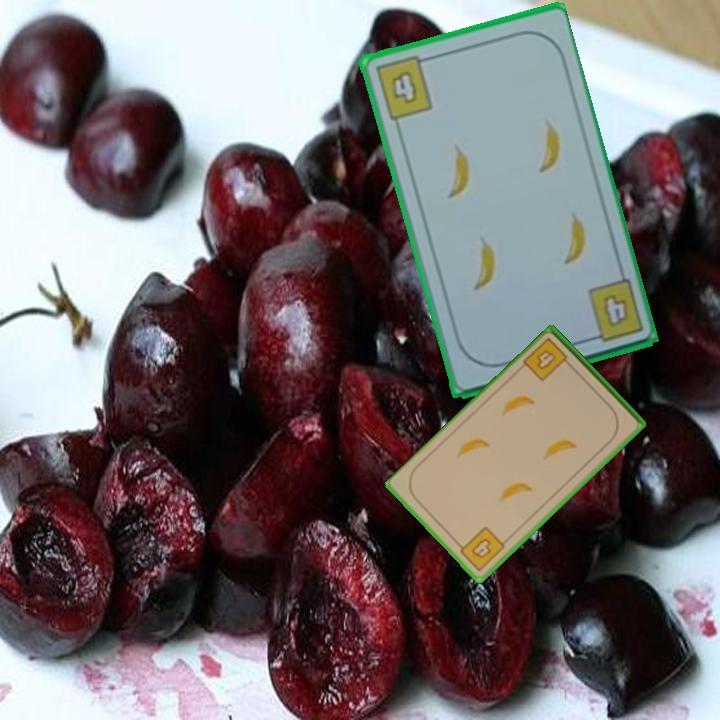4b: (371, 52, 435, 124), (581, 276, 646, 346), (453, 523, 508, 574), (520, 334, 575, 385)
